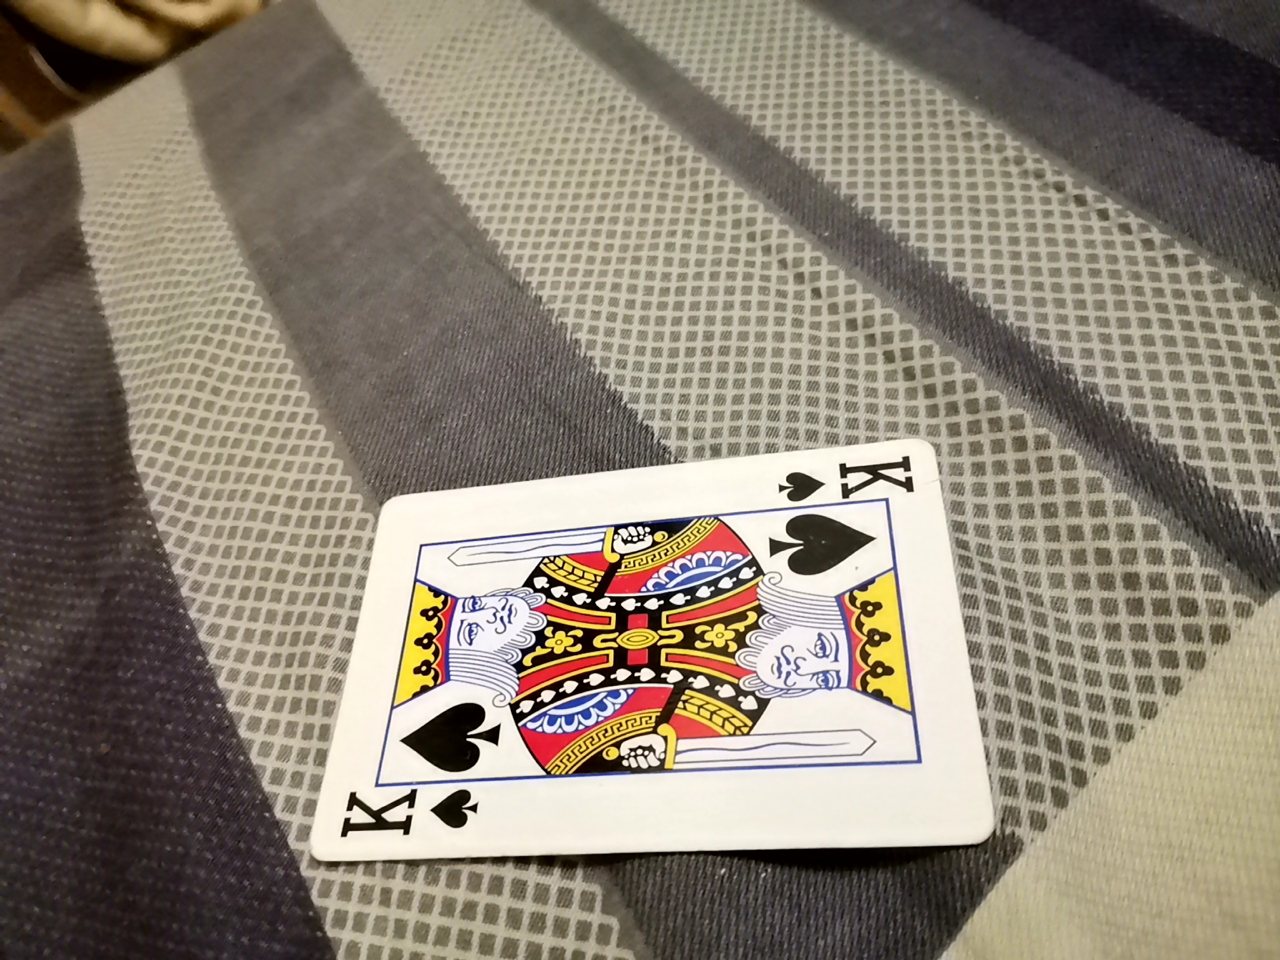ht k: (345, 436, 970, 857)
